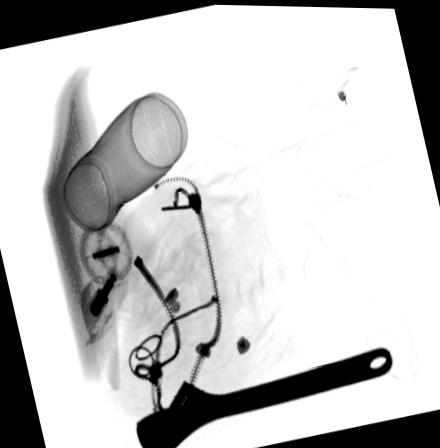Wrench: (134, 344, 395, 448)
